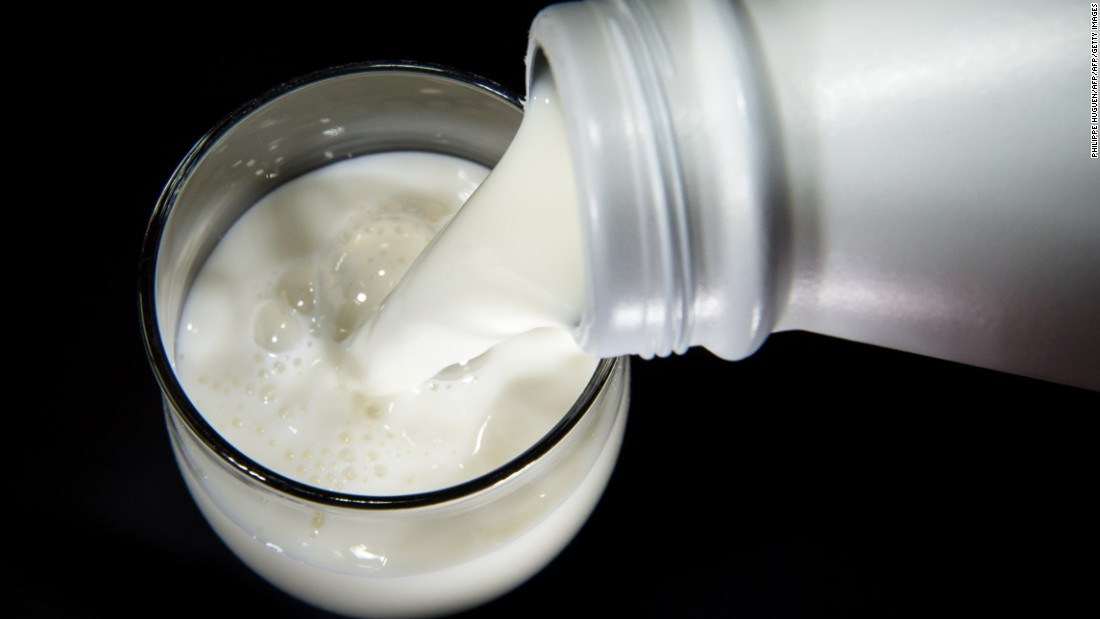glass of milk: (135, 62, 640, 615)
